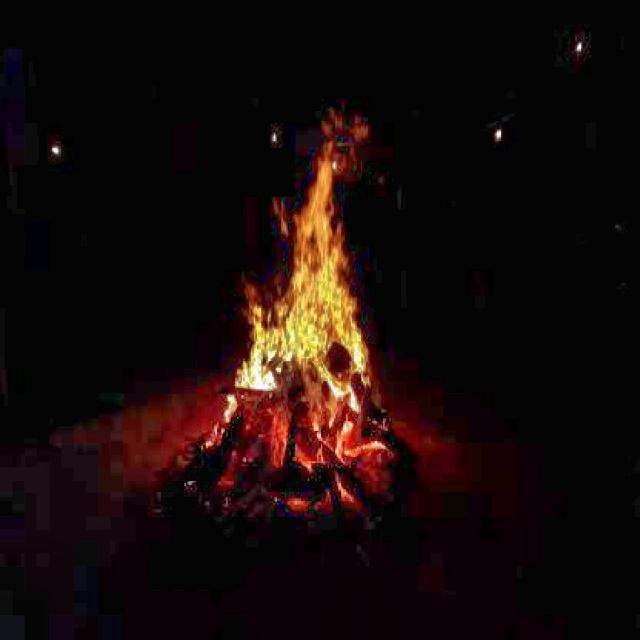Fire: (242, 142, 370, 391)
